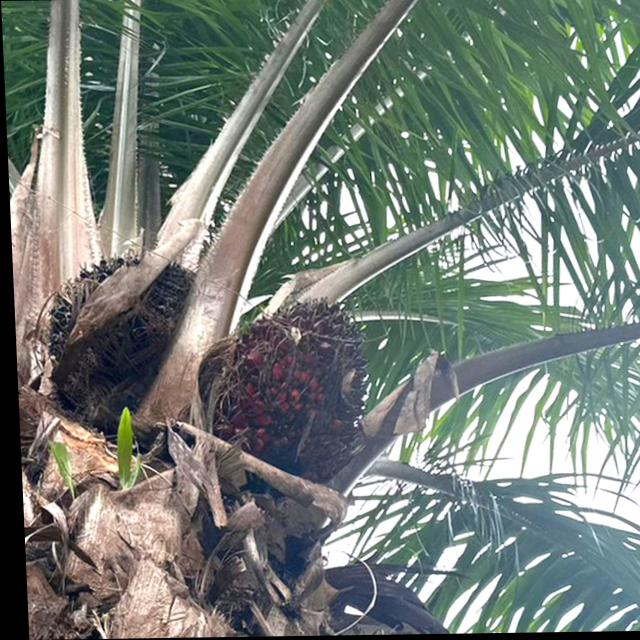ripe: (174, 278, 389, 484)
